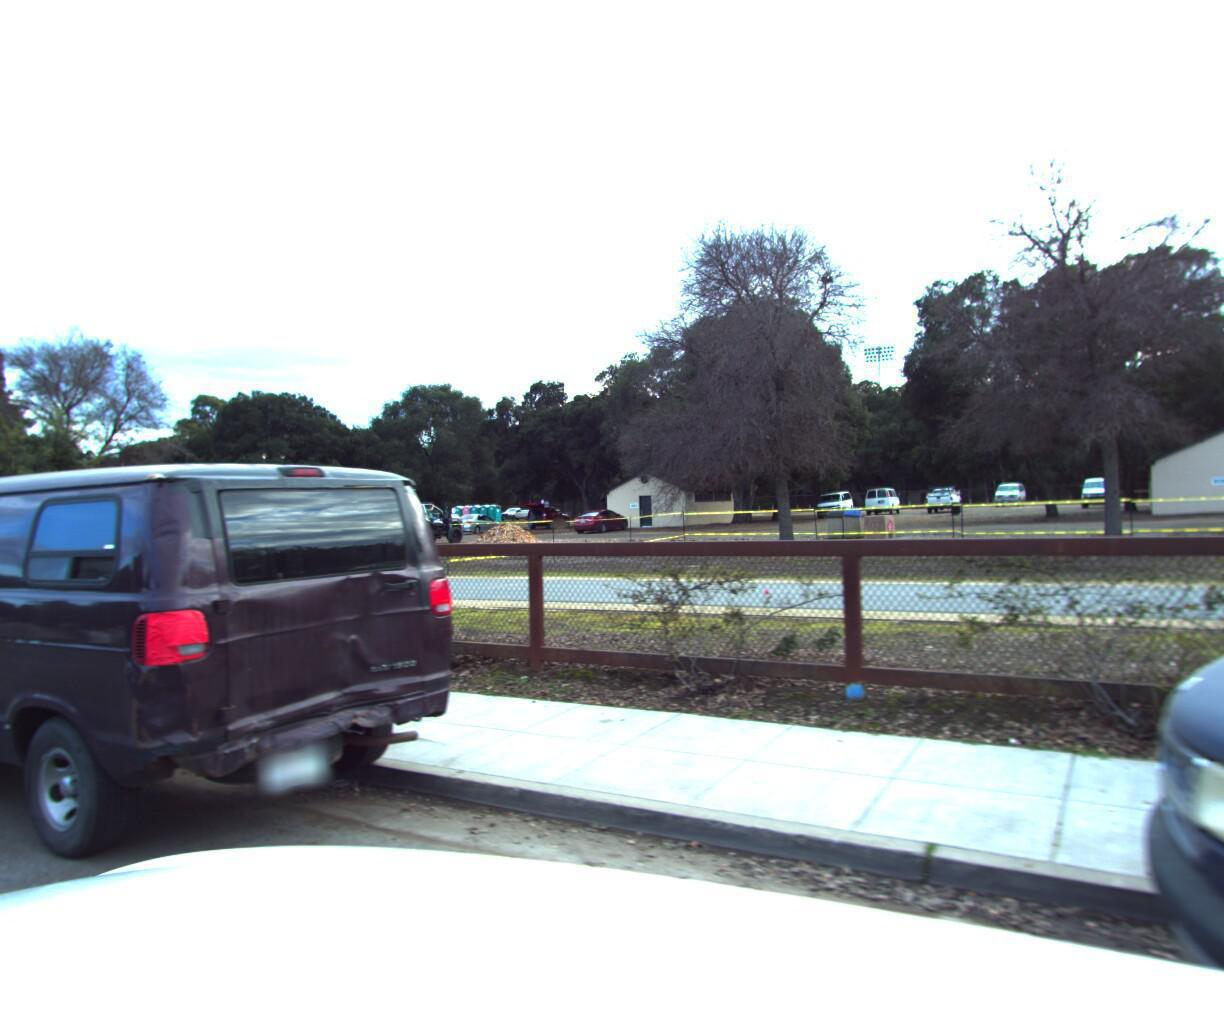car: (0, 443, 492, 913)
